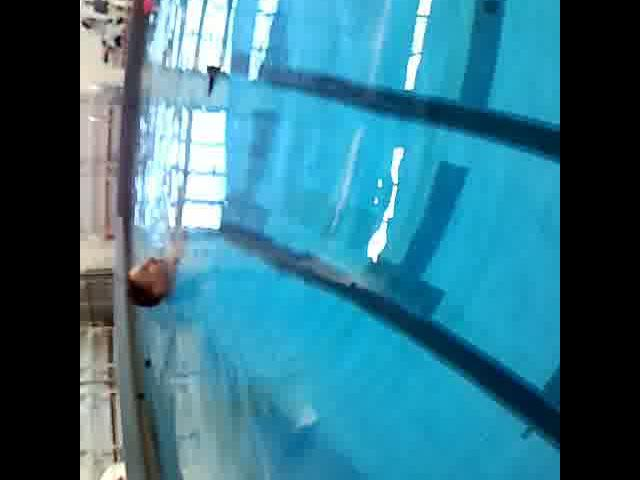CamMount: (198, 63, 224, 100)
